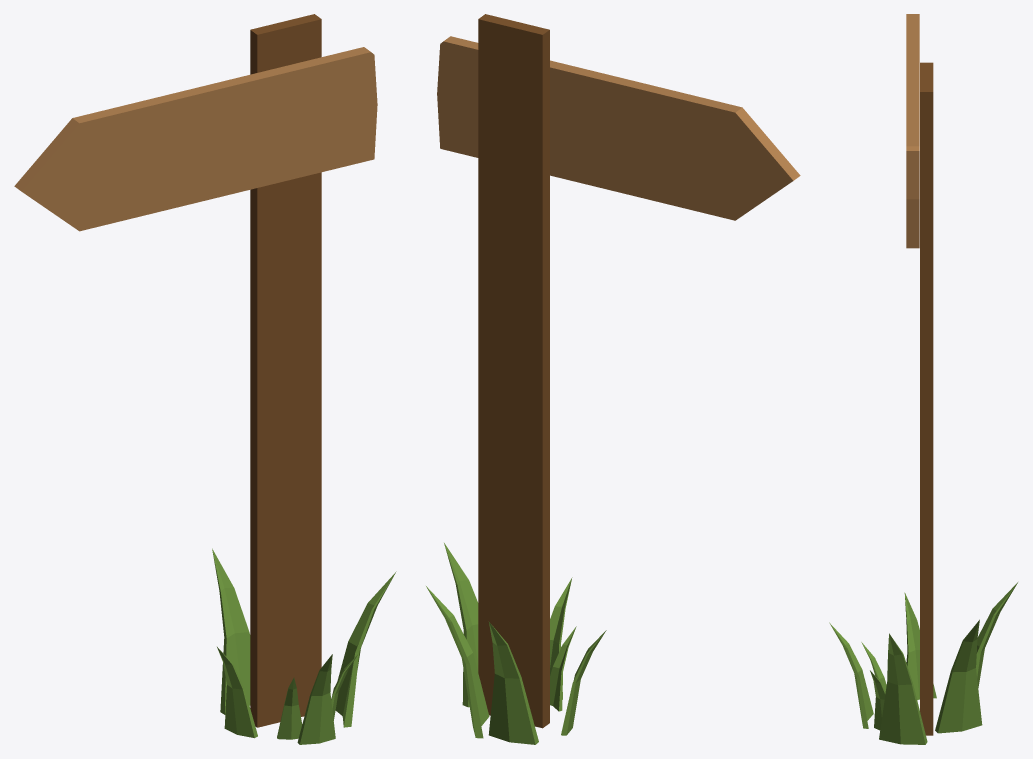
File: sign-left.glb
The picture shows the model from 3 angles, left to right: view 1: azimuth 30°, elevation 25°; view 2: azimuth 150°, elevation 25°; view 3: azimuth 270°, elevation 25°; orthographic projection. The views are drawn at different scales.
Visible parts, largest first — view 1: Sign1; view 2: Sign1; view 3: Sign1.
Part boxes in pixels (x1,y1,x2,y2): Sign1: (14,14,396,744); Sign1: (426,14,800,744); Sign1: (829,14,1017,744).
Bounding box in the file's own units: 0.9064 × 1.64 × 0.4385.
